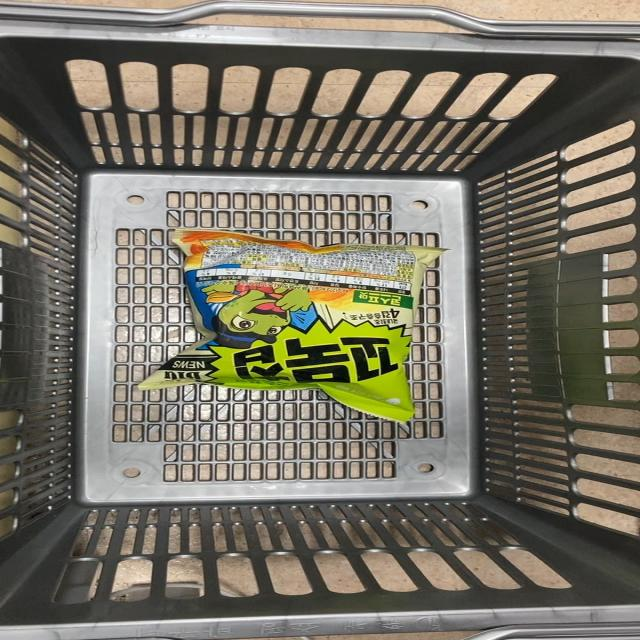ggobukchip: (152, 216, 460, 426)
